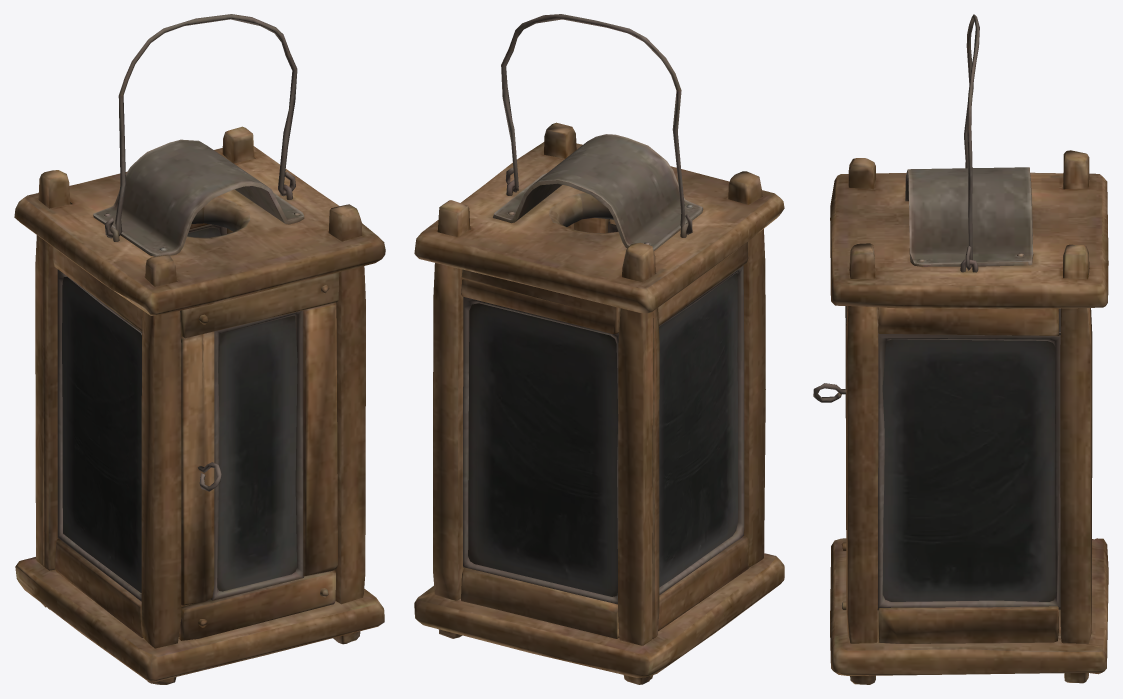
The model's file is wooden_lantern_01.glb.
The picture shows the model from 3 angles, left to right: view 1: azimuth 30°, elevation 25°; view 2: azimuth 150°, elevation 25°; view 3: azimuth 270°, elevation 25°; orthographic projection.
Visible parts, largest first — view 1: wooden_lantern_01; view 2: wooden_lantern_01; view 3: wooden_lantern_01.
Boxes of the visible parts, x1,y1,x2,y2 form: wooden_lantern_01: [14, 14, 385, 684]; wooden_lantern_01: [414, 14, 784, 684]; wooden_lantern_01: [813, 14, 1108, 684].
Size of the model in its own units: 0.221 by 0.5297 by 0.2342.
2 materials, 2 textured.
